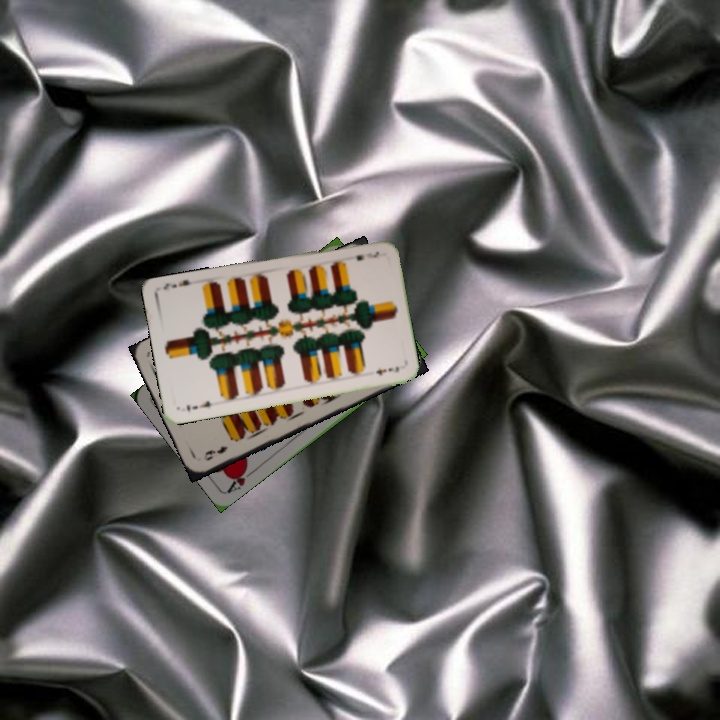E7: (182, 397, 218, 414), (352, 247, 382, 263)
E9: (199, 442, 230, 463)
HA: (223, 462, 258, 496)
